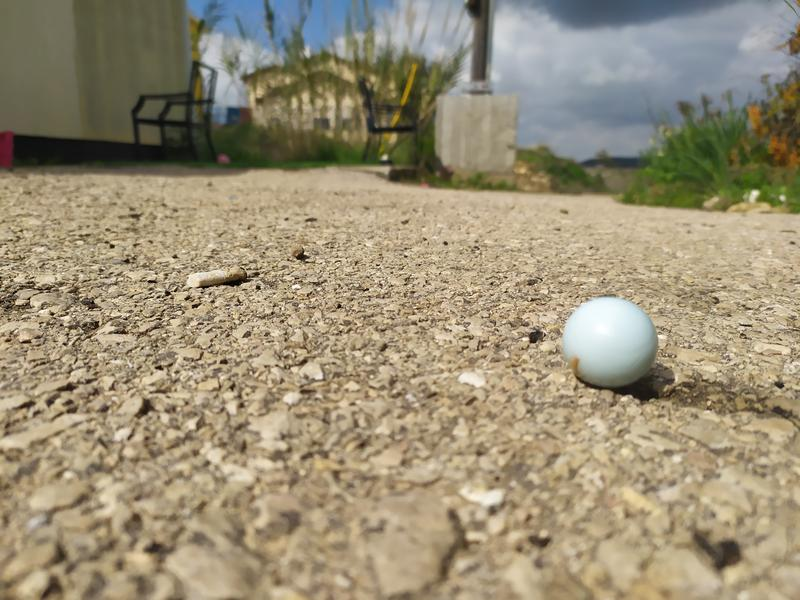Warning: (560, 294, 661, 393)
